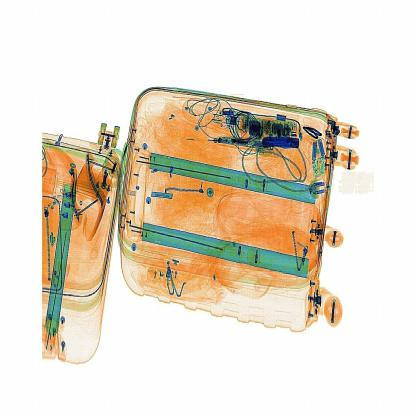knife: (261, 130, 303, 157)
